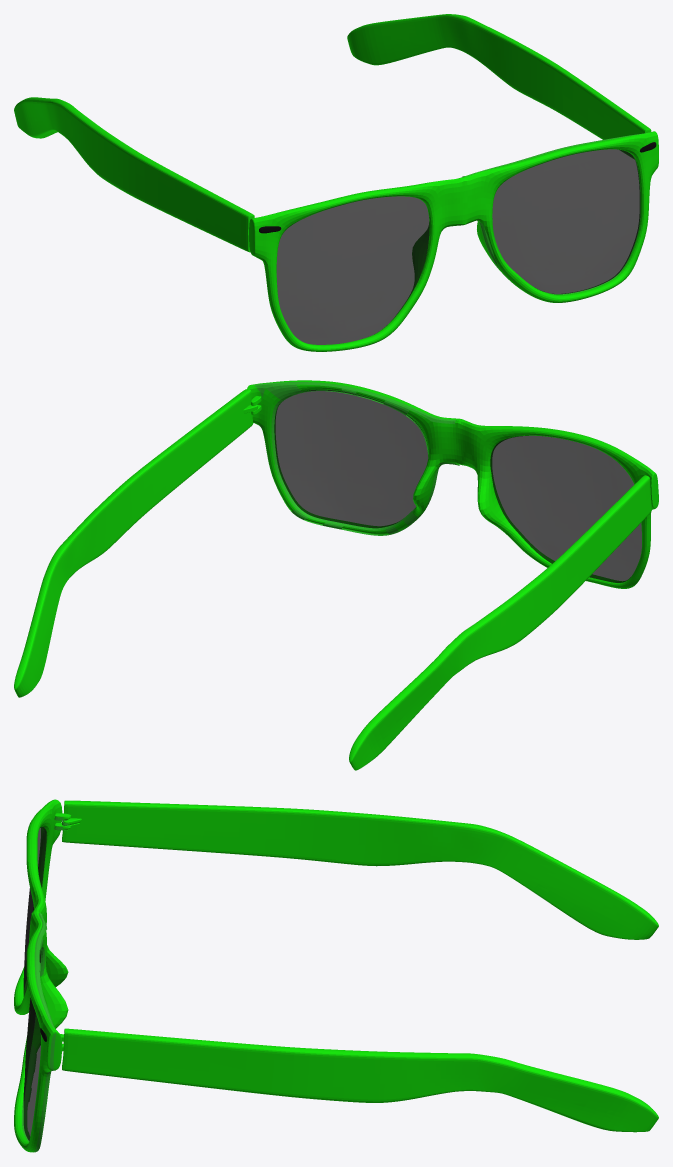
File: green.glb
The picture shows the model from 3 angles, top to bottom: view 1: azimuth 30°, elevation 25°; view 2: azimuth 150°, elevation 25°; view 3: azimuth 270°, elevation 25°; orthographic projection. The views are drawn at different scales.
Parts seen in each view (by area): view 1: glass, glass_Black_0.001; view 2: glass, glass_Black_0.001; view 3: glass, glass_Black_0.001.
Part boxes in pixels (x1,y1,x2,y2): glass: (14,14,658,351); glass_Black_0.001: (462,132,650,294); glass: (14,380,658,770); glass_Black_0.001: (253,382,459,535); glass: (14,799,658,1152); glass_Black_0.001: (22,816,71,1152).
Size of the model in its own units: 0.1569 by 0.0545 by 0.1848.
